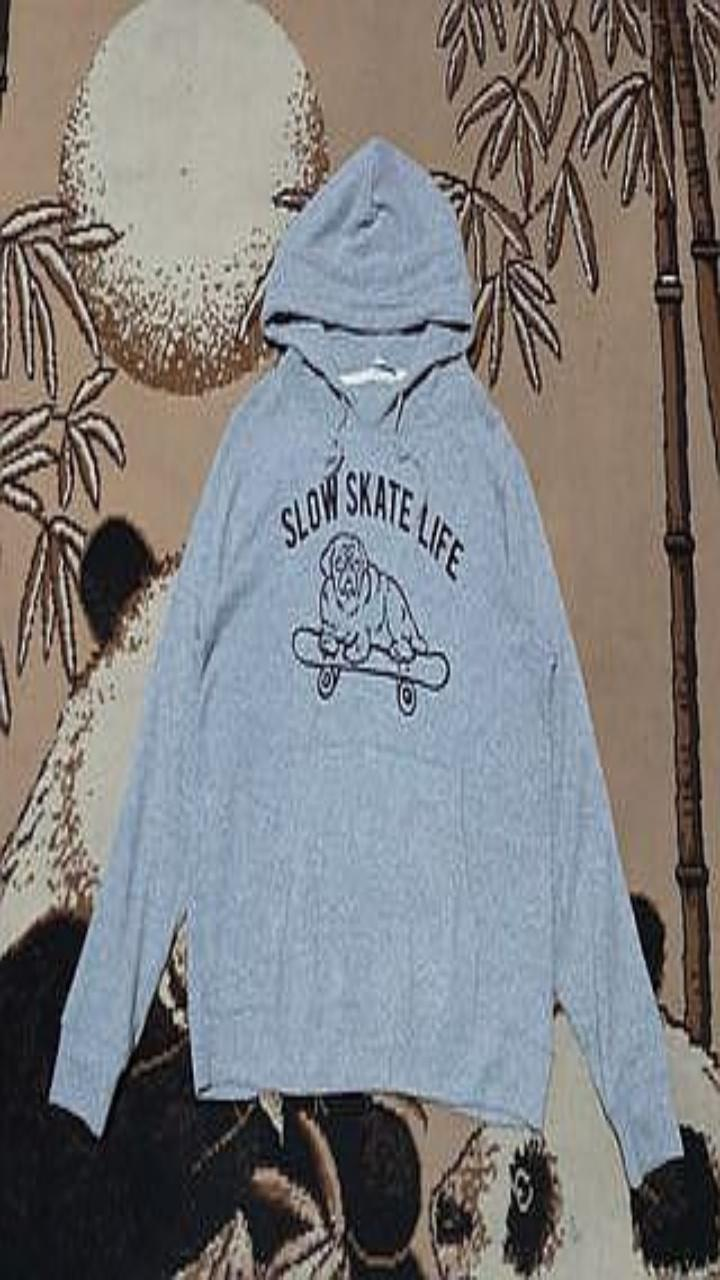Hoodie: (50, 137, 682, 1185)
